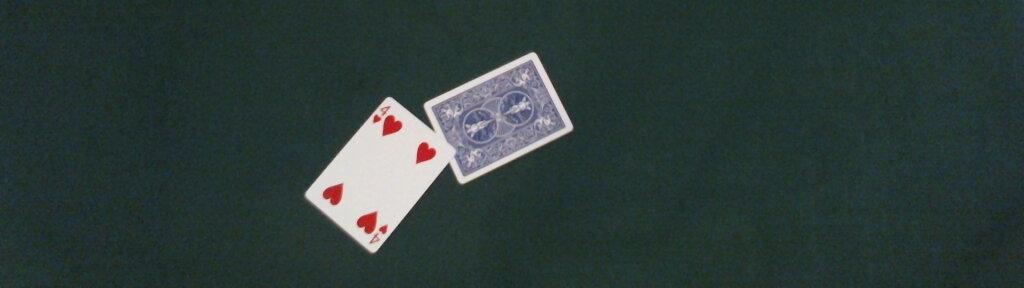back: (424, 52, 574, 184)
four: (303, 96, 455, 253)
